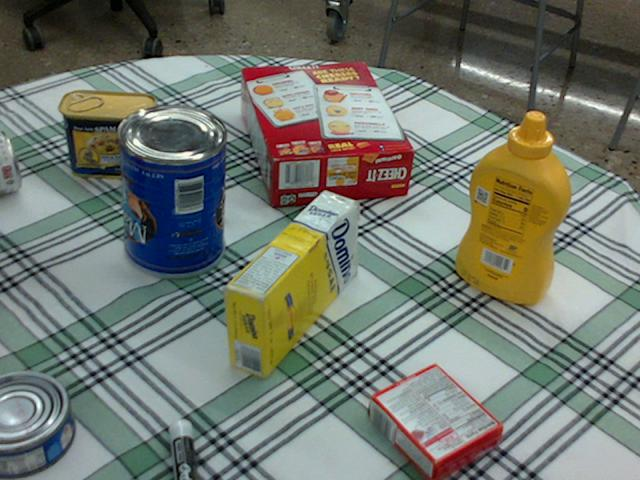cracker_box: (239, 63, 413, 203)
gelatin_box: (367, 364, 501, 479)
large_marker: (168, 420, 196, 479)
master_chef_can: (114, 104, 225, 278)
mustard_bottle: (455, 111, 570, 303)
potted_meat_can: (59, 90, 156, 179)
sugar_box: (223, 191, 357, 378)
tomato_soup_can: (0, 130, 19, 193)
tuna_fish_can: (0, 370, 71, 476)
